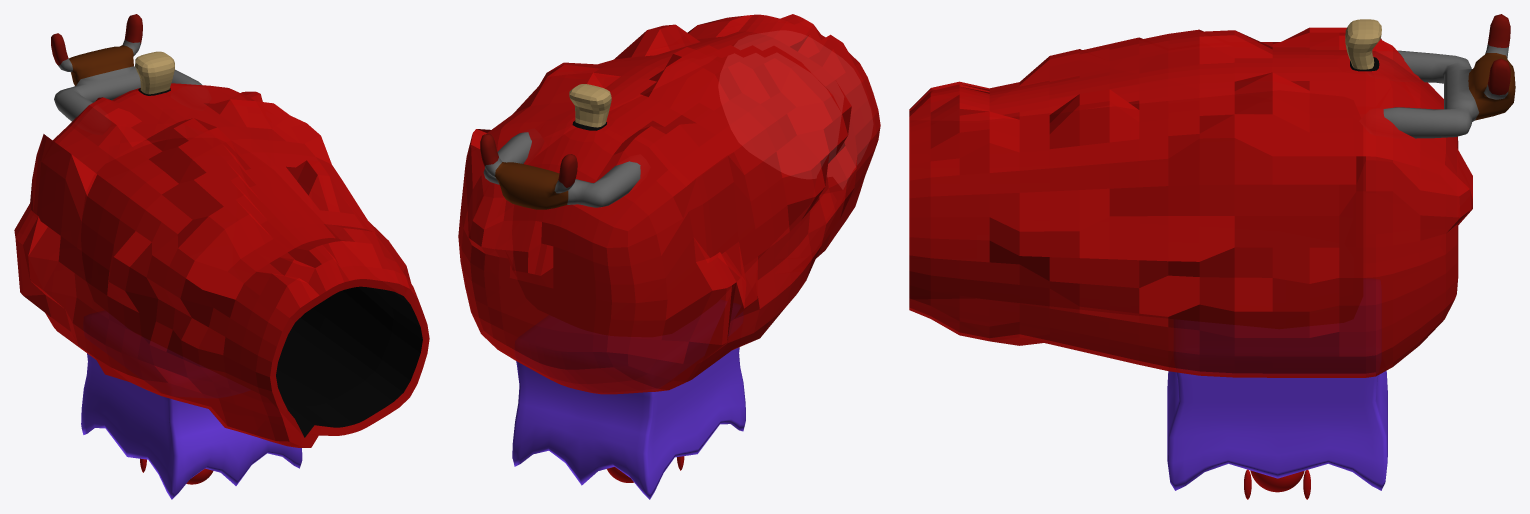
The model's file is Canon.fbx.
3 views of the same model, side by side, from view 1: azimuth 30°, elevation 25°; view 2: azimuth 150°, elevation 25°; view 3: azimuth 270°, elevation 25° (orthographic). The views are drawn at different scales.
Parts seen in each view (by area): view 1: cANON, HANDLE; view 2: cANON, HANDLE; view 3: cANON, HANDLE.
Part boxes in pixels (box(x1,y1,x2,y2)): cANON: box(14, 51, 429, 499); HANDLE: box(51, 14, 202, 121); cANON: box(458, 14, 880, 499); HANDLE: box(480, 132, 640, 209); cANON: box(909, 19, 1472, 499); HANDLE: box(1383, 14, 1515, 138).
Bounding box in the file's own units: 120 × 170 × 201.
